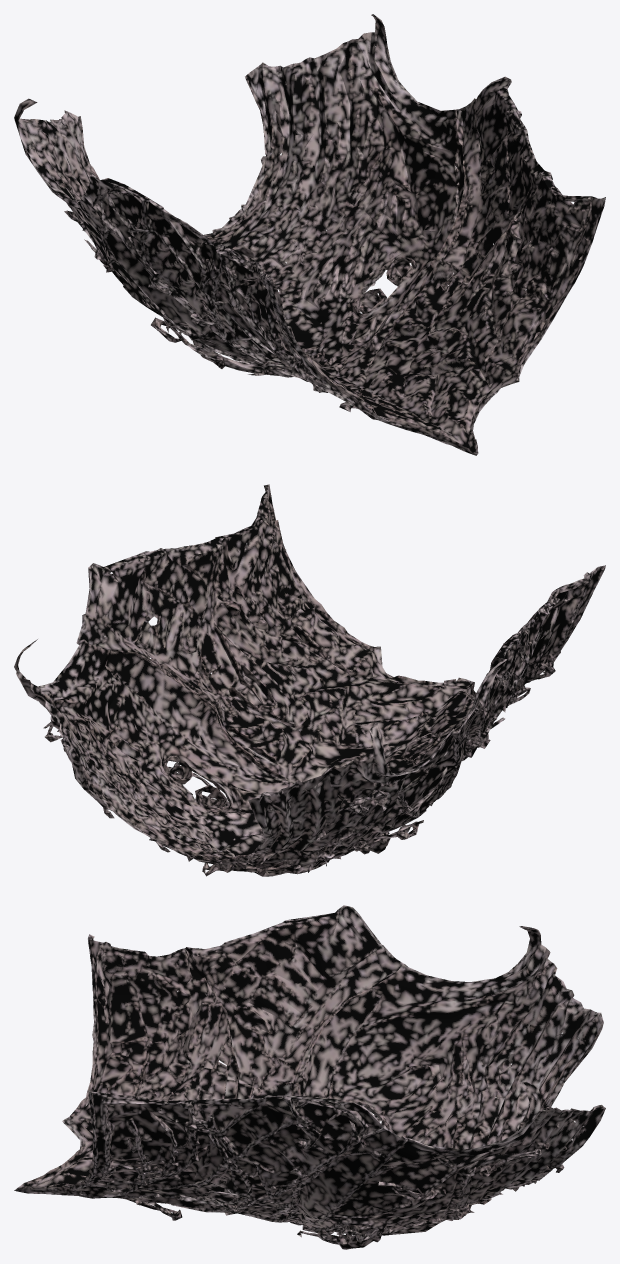
File: vampire_chestplate_LOD0.glb
The picture shows the model from 3 angles, top to bottom: view 1: azimuth 30°, elevation 25°; view 2: azimuth 150°, elevation 25°; view 3: azimuth 270°, elevation 25°; orthographic projection. The views are drawn at different scales.
Visible parts, largest first — view 1: vampire_chestplate_LOD0; view 2: vampire_chestplate_LOD0; view 3: vampire_chestplate_LOD0.
Part boxes in pixels (<box>): vampire_chestplate_LOD0: <box>14,14,605,455</box>; vampire_chestplate_LOD0: <box>14,484,605,876</box>; vampire_chestplate_LOD0: <box>14,905,605,1249</box>.
Bounding box in the file's own units: 0.5929 × 0.3327 × 0.7733.
Materials: 1 (1 with a texture image).
